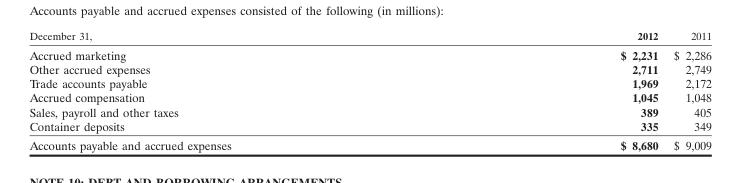table: (28, 29, 710, 152)
table column: (28, 29, 425, 152), (425, 29, 665, 152), (665, 29, 710, 152)
table column header: (28, 29, 710, 44)
table row: (28, 44, 710, 61), (28, 118, 710, 135), (28, 135, 710, 152), (28, 29, 710, 44), (28, 75, 710, 90), (28, 61, 710, 75), (28, 90, 710, 104), (28, 104, 710, 118)
